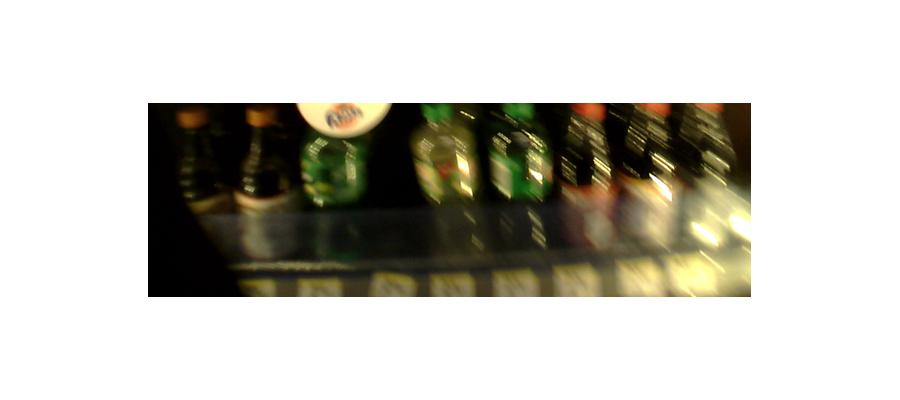bottle: (298, 97, 375, 247), (411, 101, 480, 261), (488, 106, 553, 259), (239, 100, 297, 266), (621, 114, 677, 258), (561, 99, 613, 252)
